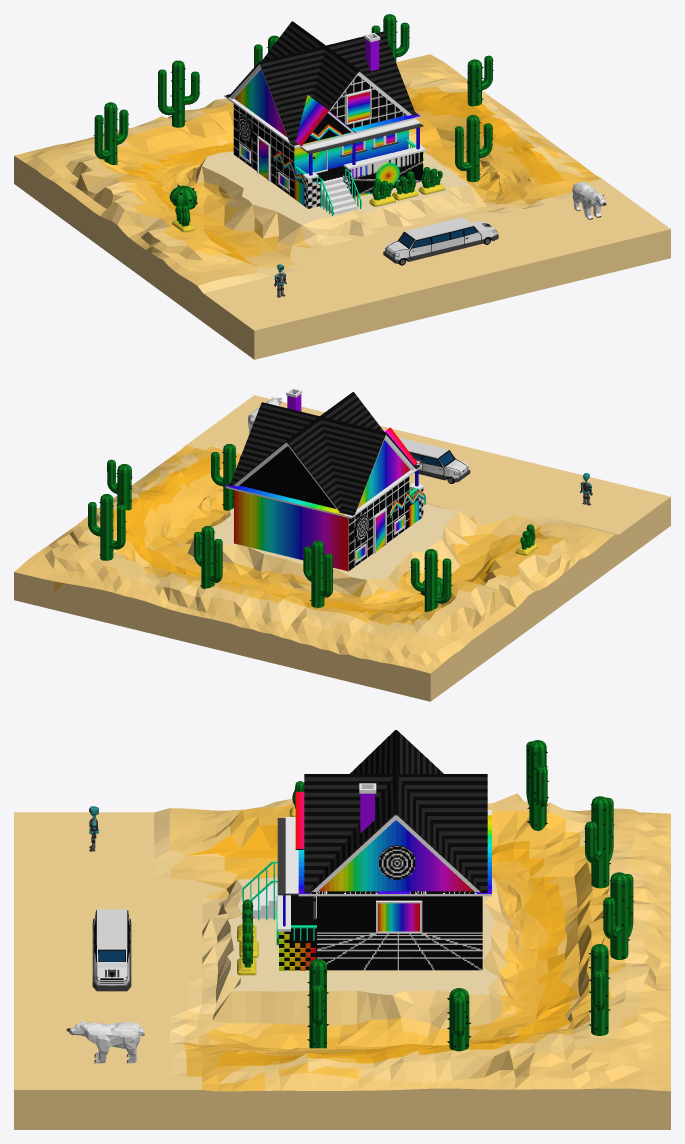
The picture shows the model from 3 angles, top to bottom: view 1: azimuth 30°, elevation 25°; view 2: azimuth 150°, elevation 25°; view 3: azimuth 270°, elevation 25°; orthographic projection. The views are drawn at different scales.
Parts seen in each view (by area): view 1: Cube.001, Cube.1320, VEHICLES_LIMOUSINE, Cylinder.037, Cylinder.044, Cylinder.045, Cylinder.038, Cylinder.042, ANIMAL_OSO_POLAR, Cylinder.039, Cylinder.041, Sphere.023 (+1 smaller); view 2: Cube.001, Cube.1320, Cylinder.042, Cylinder.045, VEHICLES_LIMOUSINE, Cylinder.044, Cylinder.043, Cylinder.037, Cylinder.038; view 3: Cube.001, Cube.1320, VEHICLES_LIMOUSINE, Cylinder.043, Cylinder.044, ANIMAL_OSO_POLAR, Cylinder.045, Cylinder.042, Cylinder.037, Cylinder.038, Cylinder.041.
Part boxes in pixels (<box>): Cube.001: <box>14,54,670,359</box>; Cube.1320: <box>224,21,425,215</box>; VEHICLES_LIMOUSINE: <box>383,217,498,265</box>; Cylinder.037: <box>454,115,493,182</box>; Cylinder.044: <box>157,60,200,127</box>; Cylinder.045: <box>93,102,129,164</box>; Cylinder.038: <box>467,55,493,106</box>; Cylinder.042: <box>371,14,409,62</box>; ANIMAL_OSO_POLAR: <box>572,181,606,219</box>; Cylinder.039: <box>369,179,395,206</box>; Cylinder.041: <box>418,167,445,194</box>; Sphere.023: <box>169,184,197,209</box>; Cube.001: <box>14,395,670,701</box>; Cube.1320: <box>225,388,425,571</box>; Cylinder.042: <box>88,494,126,560</box>; Cylinder.045: <box>410,549,452,611</box>; VEHICLES_LIMOUSINE: <box>399,437,470,483</box>; Cylinder.044: <box>303,540,333,607</box>; Cylinder.043: <box>193,526,222,588</box>; Cylinder.037: <box>211,444,240,510</box>; Cylinder.038: <box>107,459,132,510</box>; Cube.001: <box>14,793,670,1129</box>; Cube.1320: <box>242,730,491,970</box>; VEHICLES_LIMOUSINE: <box>92,909,131,991</box>; Cylinder.043: <box>602,872,634,959</box>; Cylinder.044: <box>584,796,614,888</box>; ANIMAL_OSO_POLAR: <box>66,1020,144,1063</box>; Cylinder.045: <box>526,740,549,830</box>; Cylinder.042: <box>588,944,610,1035</box>; Cylinder.037: <box>307,959,329,1048</box>; Cylinder.038: <box>447,988,471,1051</box>; Cylinder.041: <box>237,932,256,975</box>.
Size of the model in its own units: 4002 by 1577 by 4001.
Materials: 30 (5 with a texture image).
